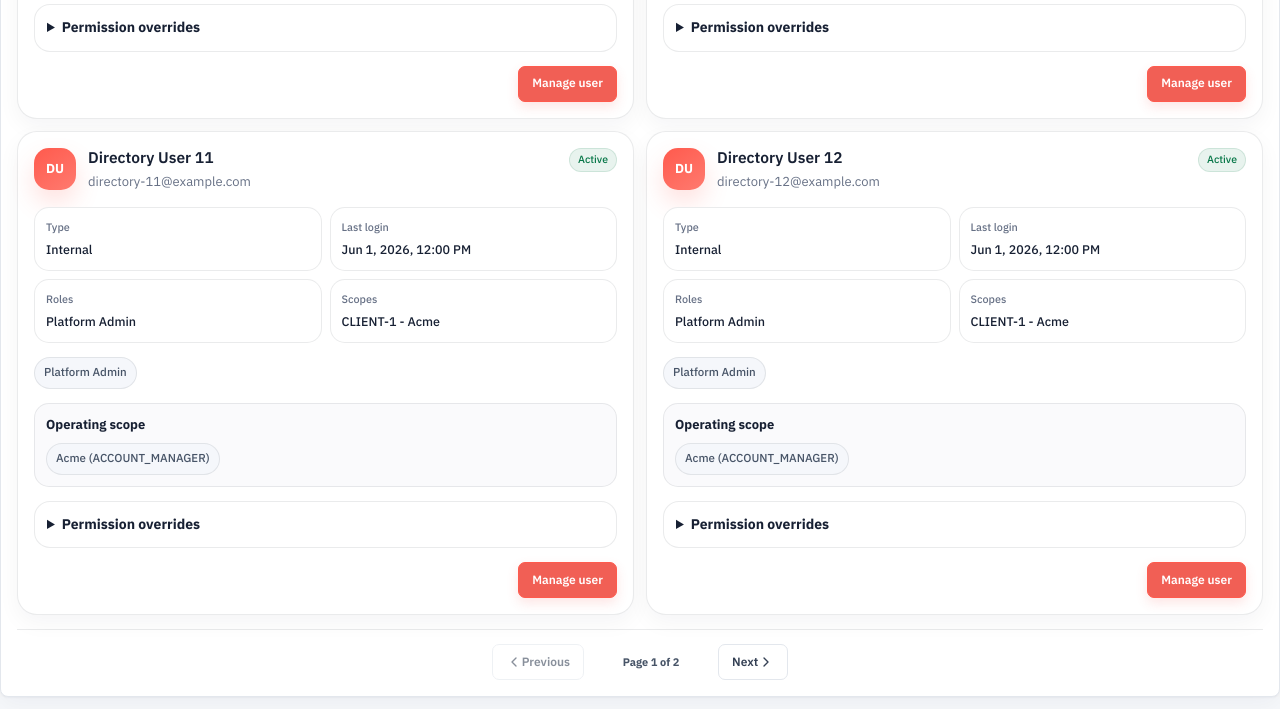
Scenario: Admin access pages › filters and paginates the user directory without rendering every account at once
(page scrolled)
Expected: the text "Page 1 of 2" is shown, left=623, top=654, right=679, bottom=671
Step 1. Click the button "Next" → (753, 662), box left=718, top=644, right=788, bottom=680
(page scrolled)
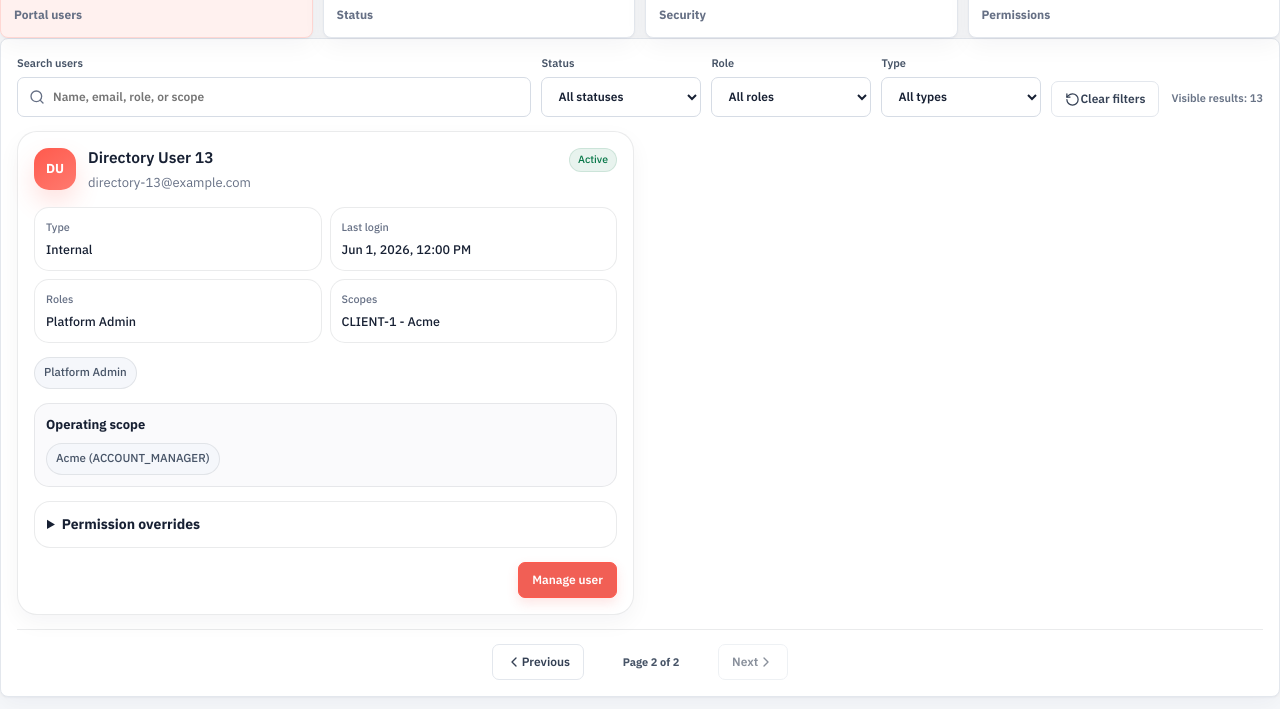
Now the heading "Directory User 13" is shown, box left=88, top=146, right=214, bottom=169
Step 2. Type "directory-4@example.com" into the search field labelled "Search users" → (286, 97), box left=53, top=78, right=519, bottom=116
(page scrolled)
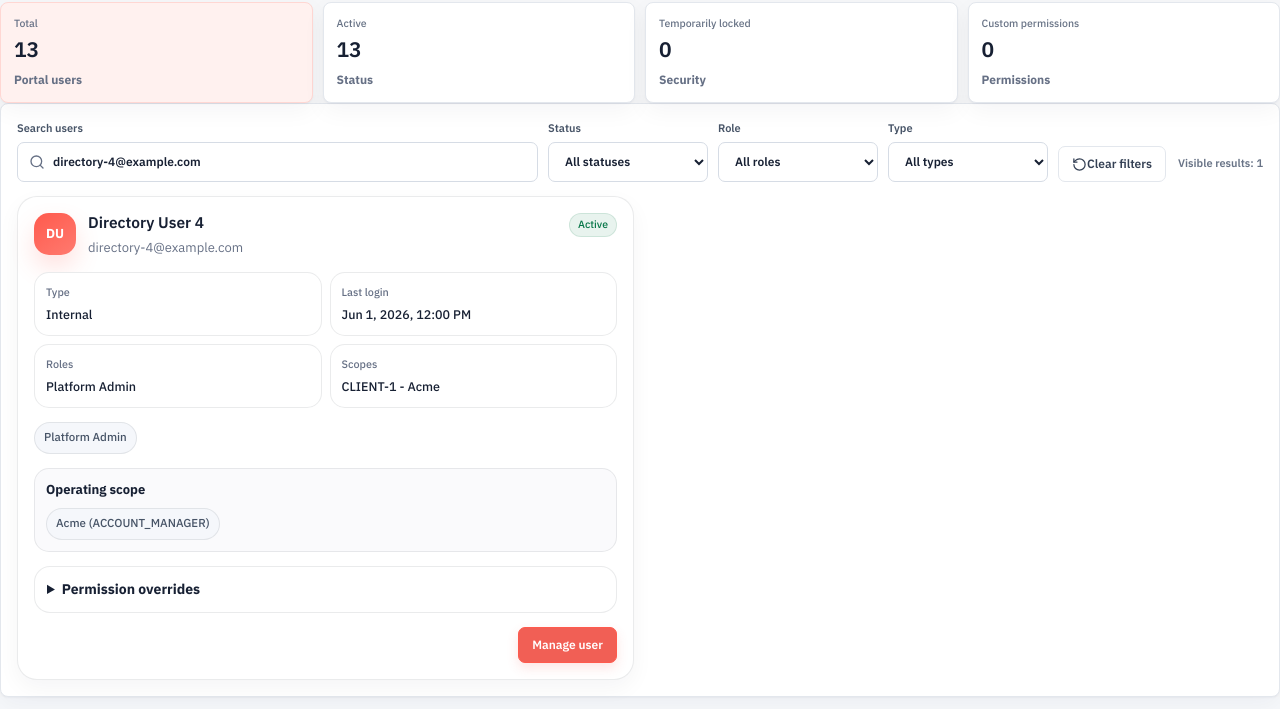
Now the heading "Directory User 4" is shown, box left=88, top=211, right=204, bottom=234
Now the heading "Directory User 13" is gone
